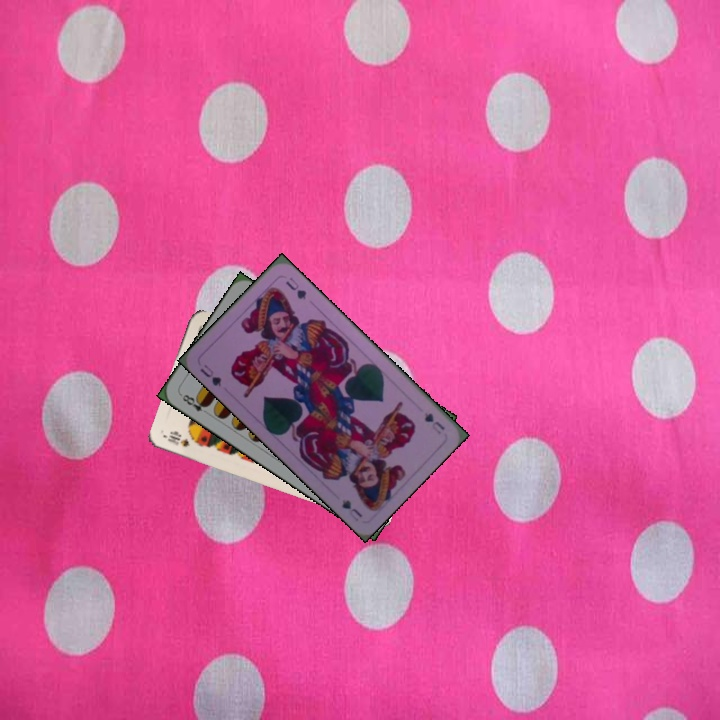E8: (176, 390, 212, 418)
GU: (196, 360, 224, 389), (420, 408, 447, 437)
S10: (162, 428, 192, 449)
